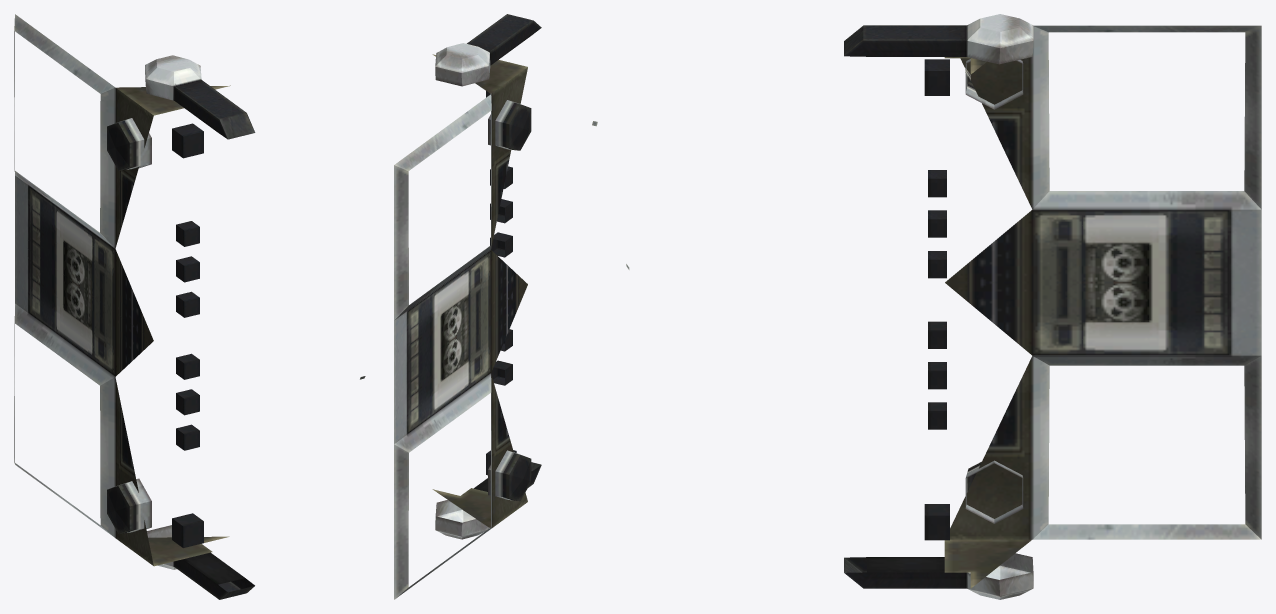
The model's file is Cat_starRadio.obj.
3 views of the same model, side by side, from view 1: azimuth 30°, elevation 25°; view 2: azimuth 150°, elevation 25°; view 3: azimuth 270°, elevation 25° (orthographic). The views are drawn at different scales.
Parts seen in each view (by area): view 1: Cat_starRadio_tri; view 2: Cat_starRadio_tri; view 3: Cat_starRadio_tri.
Part boxes in pixels (left/top/right/bottom): Cat_starRadio_tri: left=14, top=14, right=365, bottom=599; Cat_starRadio_tri: left=394, top=14, right=597, bottom=599; Cat_starRadio_tri: left=626, top=14, right=1261, bottom=599.
Size of the model in its own units: 0.0808 by 0.3654 by 0.3704.
1 material, 1 textured.
